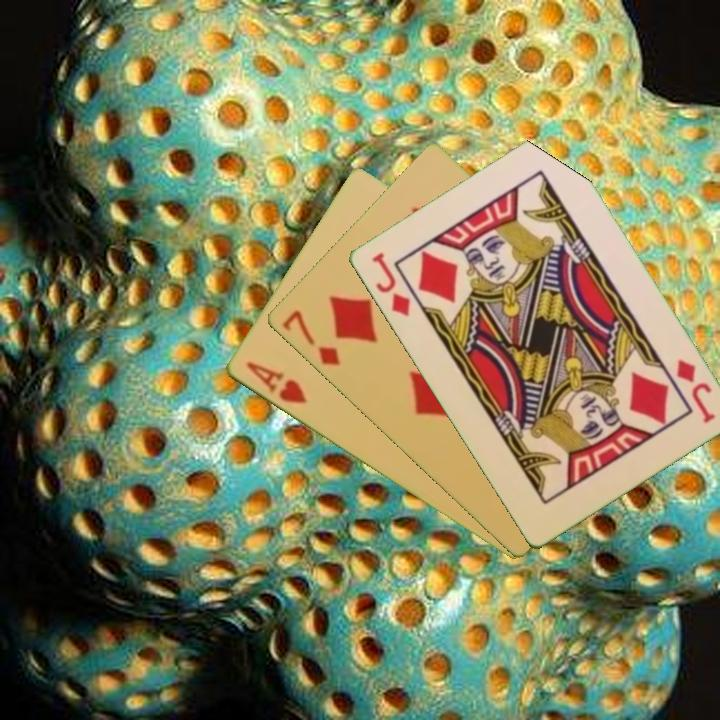7d: (277, 306, 343, 369)
Ah: (242, 358, 310, 407)
Jd: (672, 355, 718, 426), (368, 248, 413, 320)
